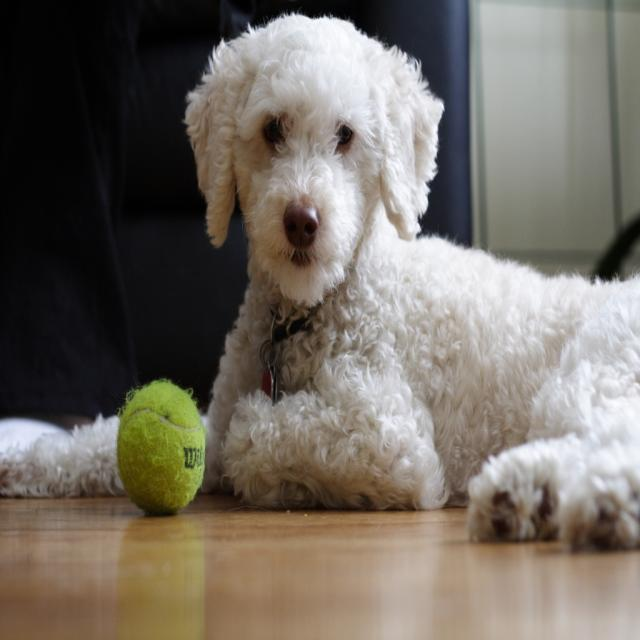Tennis ball: (117, 377, 205, 516)
